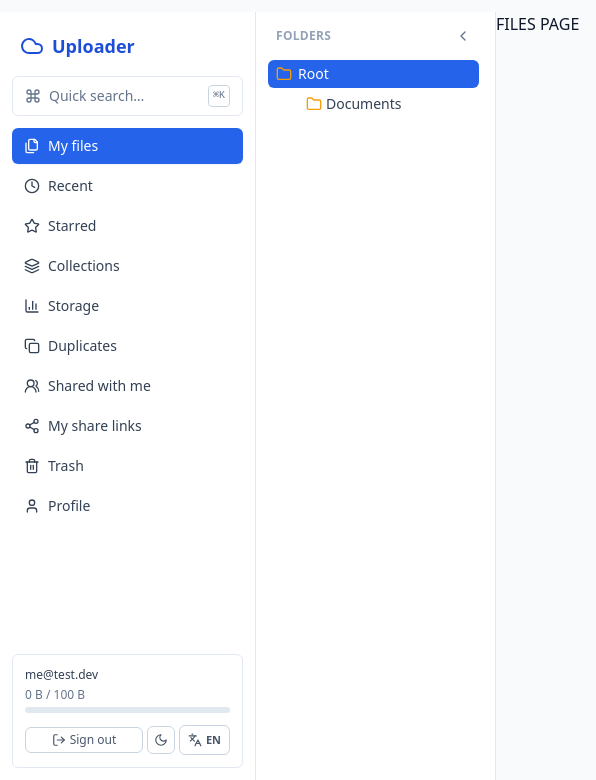
Test: Layout folder-tree column › toggles the column closed (round ">" button) and back open, persisting state
Expected: the text "Documents" is shown, [326,94,402,114]
Click the button named "Hide folders" at point(463, 36), box [451,24,475,48]
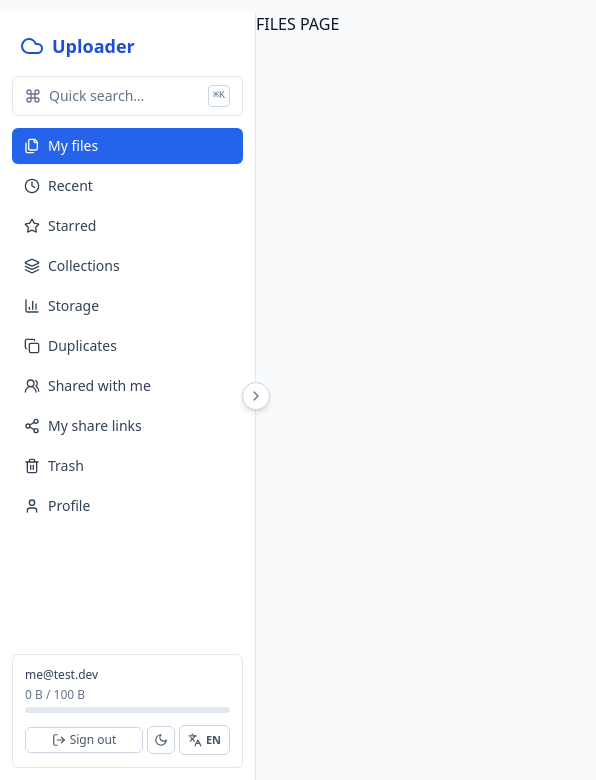
Result: the text "Folders" is gone
Result: the button named "Show folders" is shown
Note: Expand again.
Click the button named "Show folders" at point(256, 396), box [242,382,270,410]
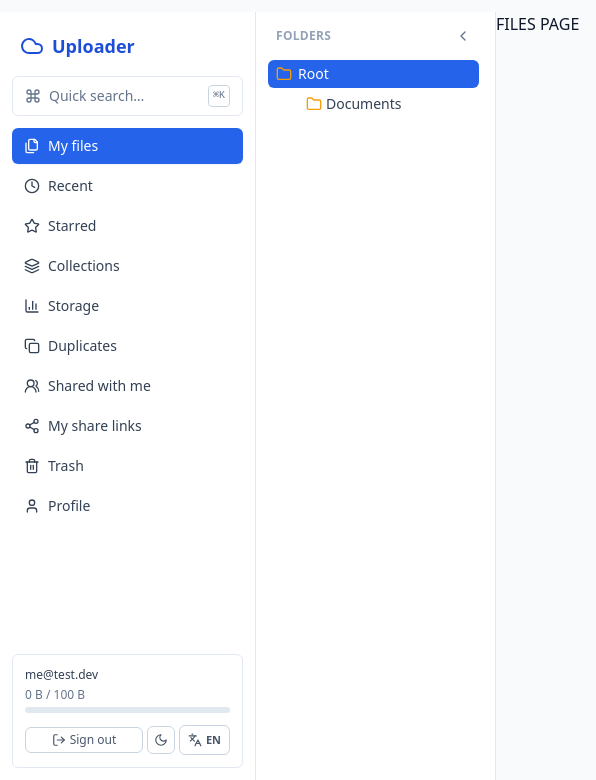
Result: the text "Folders" is shown at [276,28,331,44]
